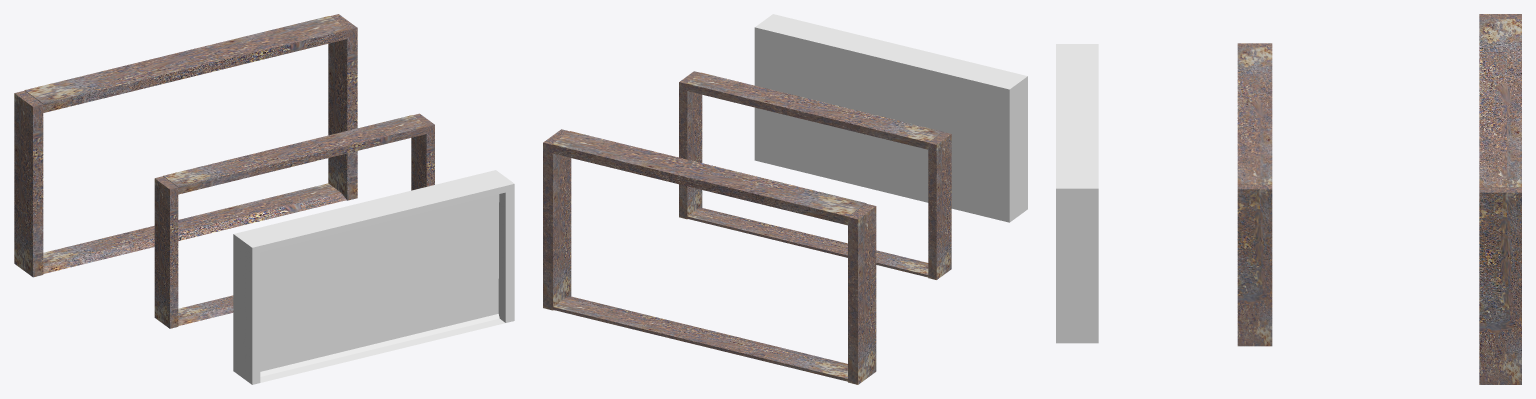
The model's file is Good frame Small.dae.
3 views of the same model, side by side, from view 1: azimuth 30°, elevation 25°; view 2: azimuth 150°, elevation 25°; view 3: azimuth 270°, elevation 25° (orthographic). The views are drawn at different scales.
Visible parts, largest first — view 1: Cube4_copy8-0, Cube2-0, Cube2_copy3-0; view 2: Cube4_copy8-0, Cube2-0, Cube2_copy3-0; view 3: Cube2-0, Cube4_copy8-0, Cube2_copy3-0.
Boxes of the visible parts, box(x1,y1,x2,y2) form: Cube4_copy8-0: box(233, 170, 514, 384); Cube2-0: box(14, 14, 357, 277); Cube2_copy3-0: box(154, 113, 434, 328); Cube4_copy8-0: box(754, 14, 1027, 222); Cube2-0: box(543, 129, 876, 384); Cube2_copy3-0: box(679, 71, 951, 279); Cube2-0: box(1479, 14, 1521, 384); Cube4_copy8-0: box(1056, 44, 1098, 343); Cube2_copy3-0: box(1237, 43, 1272, 346).
Size of the model in its own units: 4.97 by 2.5 by 5.48.
